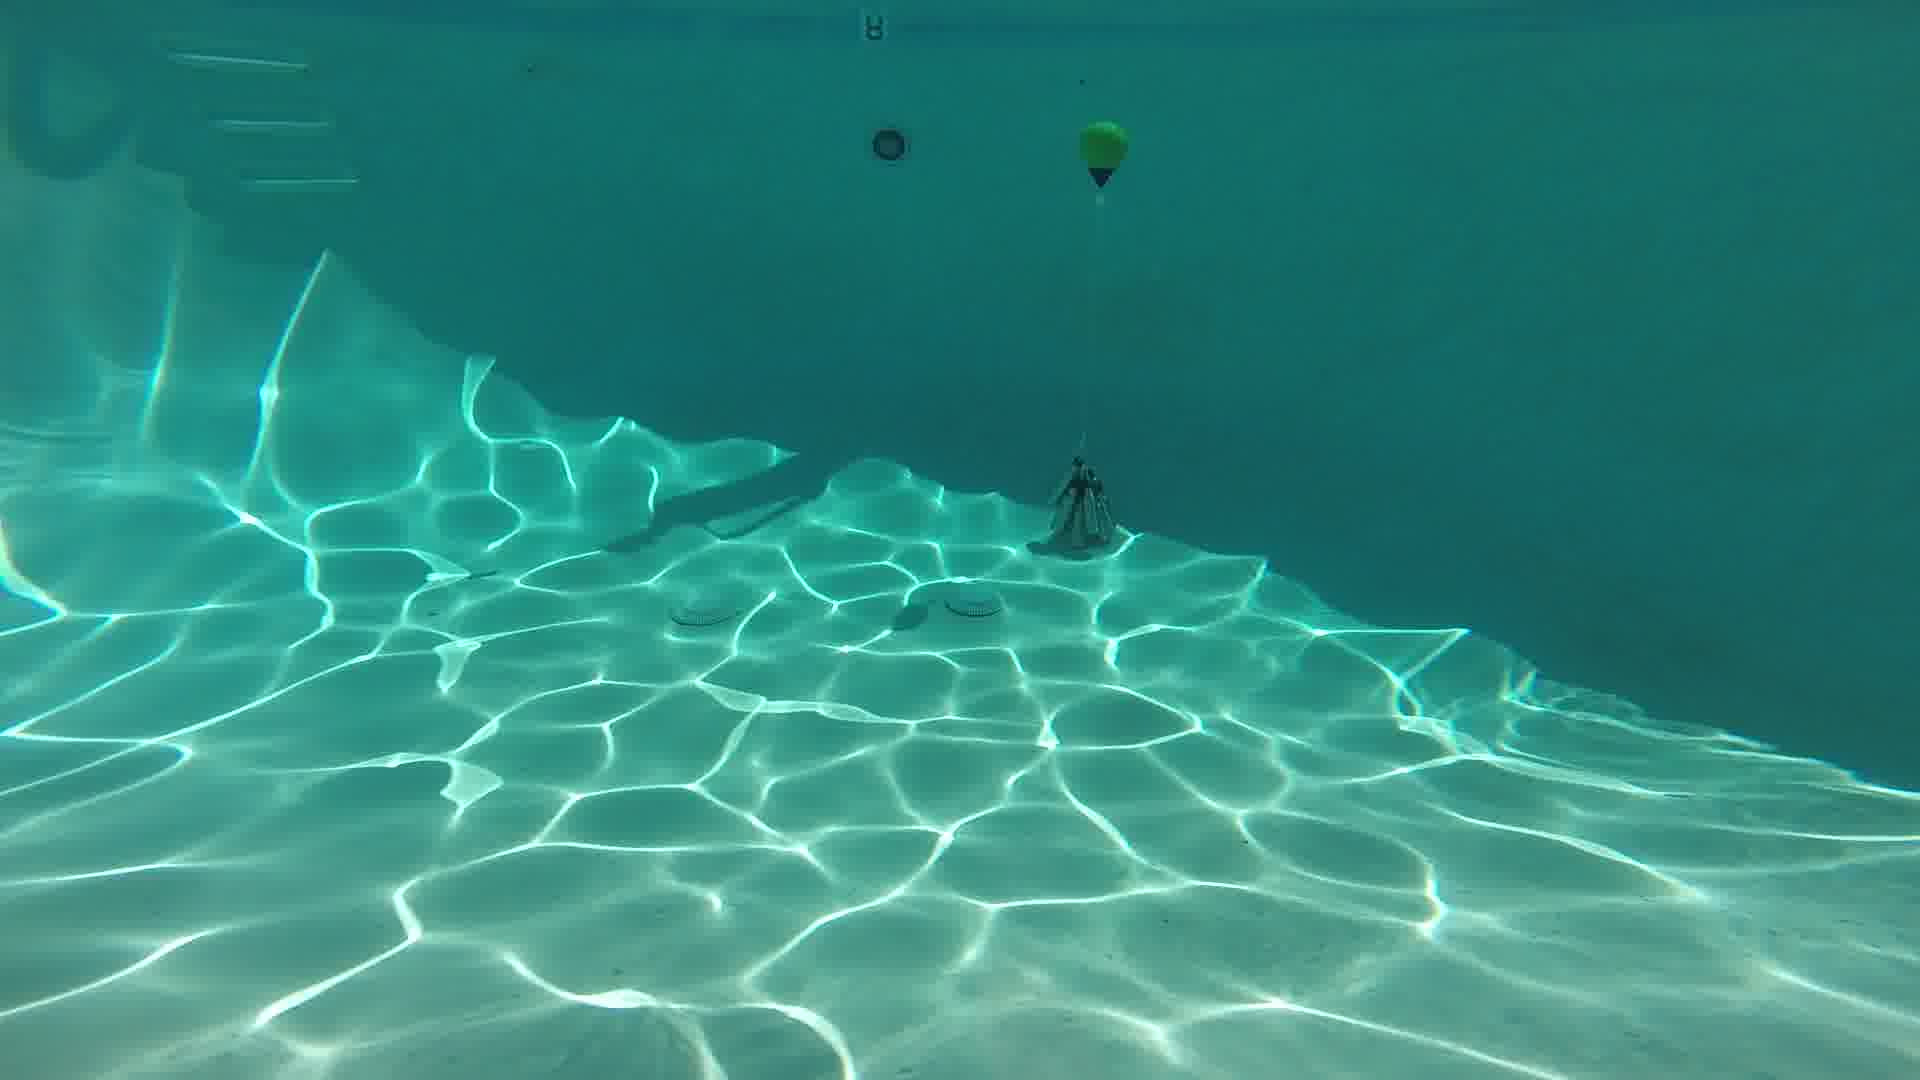yellow_buoy: (1081, 121, 1125, 187)
